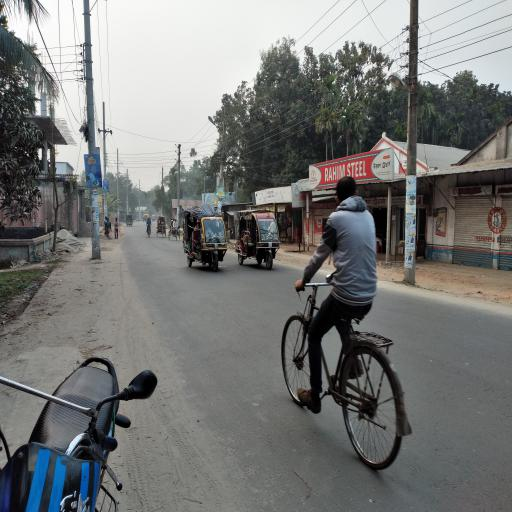auto rickshaw: (235, 203, 286, 274), (183, 207, 232, 276), (126, 215, 134, 228), (153, 215, 157, 223)
bicycle: (282, 193, 425, 477), (147, 218, 153, 239)
motorbike: (2, 338, 162, 512)
rickshaw: (169, 219, 181, 244), (157, 216, 168, 240), (137, 216, 141, 223)
truck: (143, 211, 151, 223)
